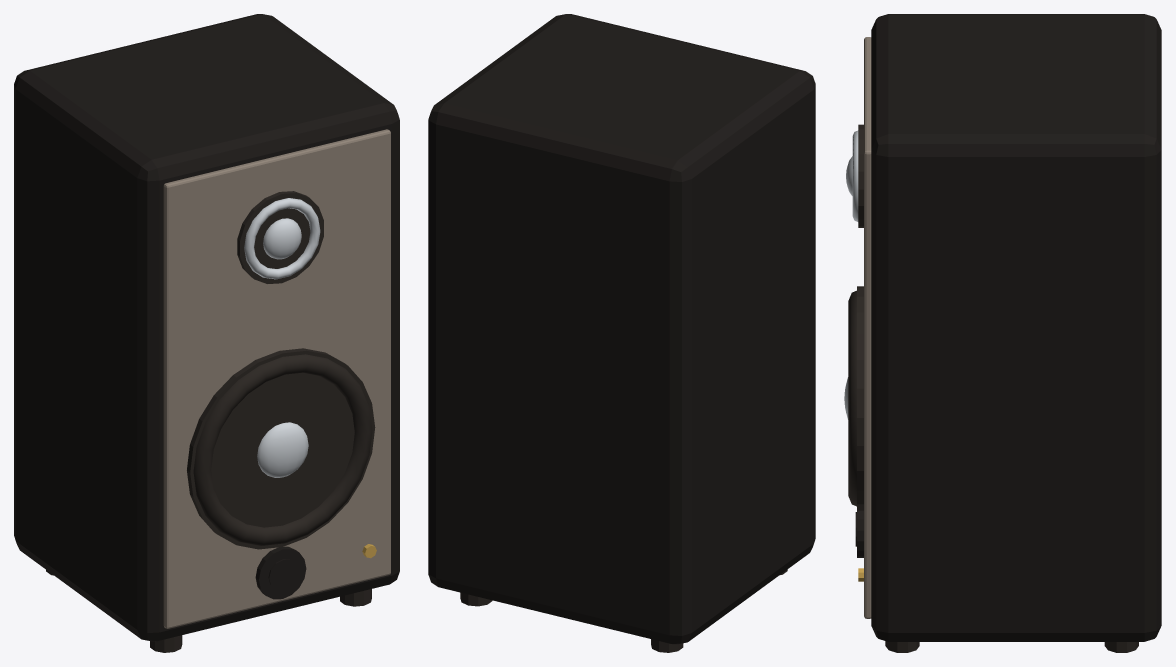
File: hh_cat_speaker.glb
3 renders of one model, left to right at view 1: azimuth 30°, elevation 25°; view 2: azimuth 150°, elevation 25°; view 3: azimuth 270°, elevation 25°, orthographic. The views are drawn at different scales.
Parts seen in each view (by area): view 1: cabinet, baffle, woofer, woofer_surround, tweeter_plate, tweeter_ring, dust_cap, port, tweeter, port_hole; view 2: cabinet; view 3: cabinet, baffle, woofer_surround, woofer, tweeter_plate, tweeter_ring.
Part boxes in pixels (x1,y1,x2,y2): cabinet: (14,14,399,641); baffle: (163,129,390,628); woofer: (187,348,375,549); woofer_surround: (193,354,372,545); tweeter_plate: (237,191,323,283); tweeter_ring: (244,198,320,279); dust_cap: (257,422,308,477); port: (255,546,306,599); tweeter: (263,218,301,259); port_hole: (268,559,297,589); cabinet: (428,14,815,644); cabinet: (871,14,1161,641); baffle: (864,37,871,618); woofer_surround: (848,290,856,506); woofer: (857,286,863,510); tweeter_plate: (858,124,863,227); tweeter_ring: (852,130,858,221).
Size of the model in its own units: 0.22 by 0.4 by 0.22.
